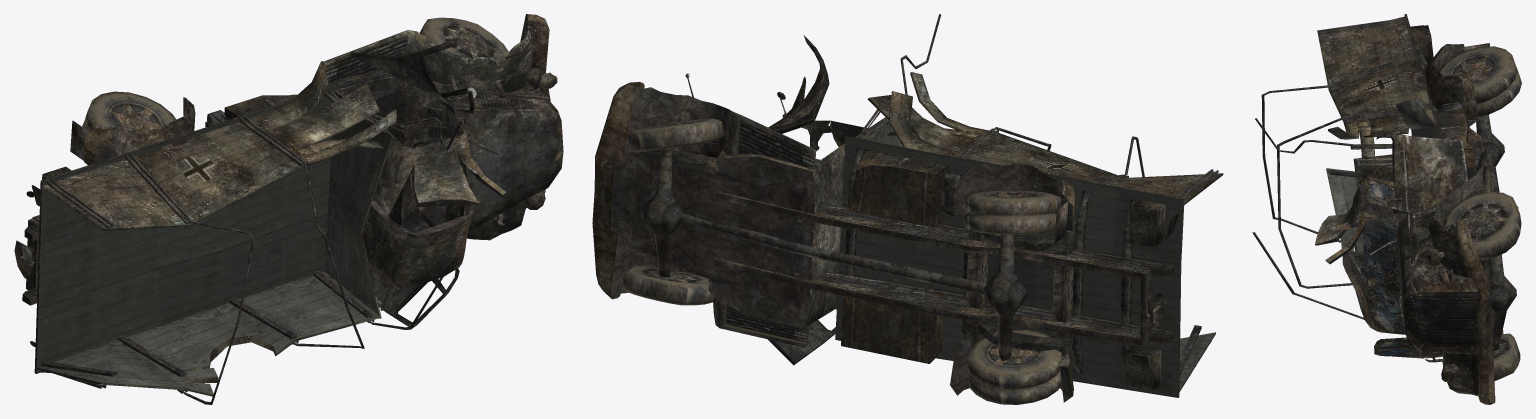
The model's file is vehicle_opel_blitz_woodland_d.glb.
3 views of the same model, side by side, from view 1: azimuth 30°, elevation 25°; view 2: azimuth 150°, elevation 25°; view 3: azimuth 270°, elevation 25° (orthographic). The views are drawn at different scales.
Size of the model in its own units: 255 by 124 by 125.
Materials: 2 (2 with a texture image).
